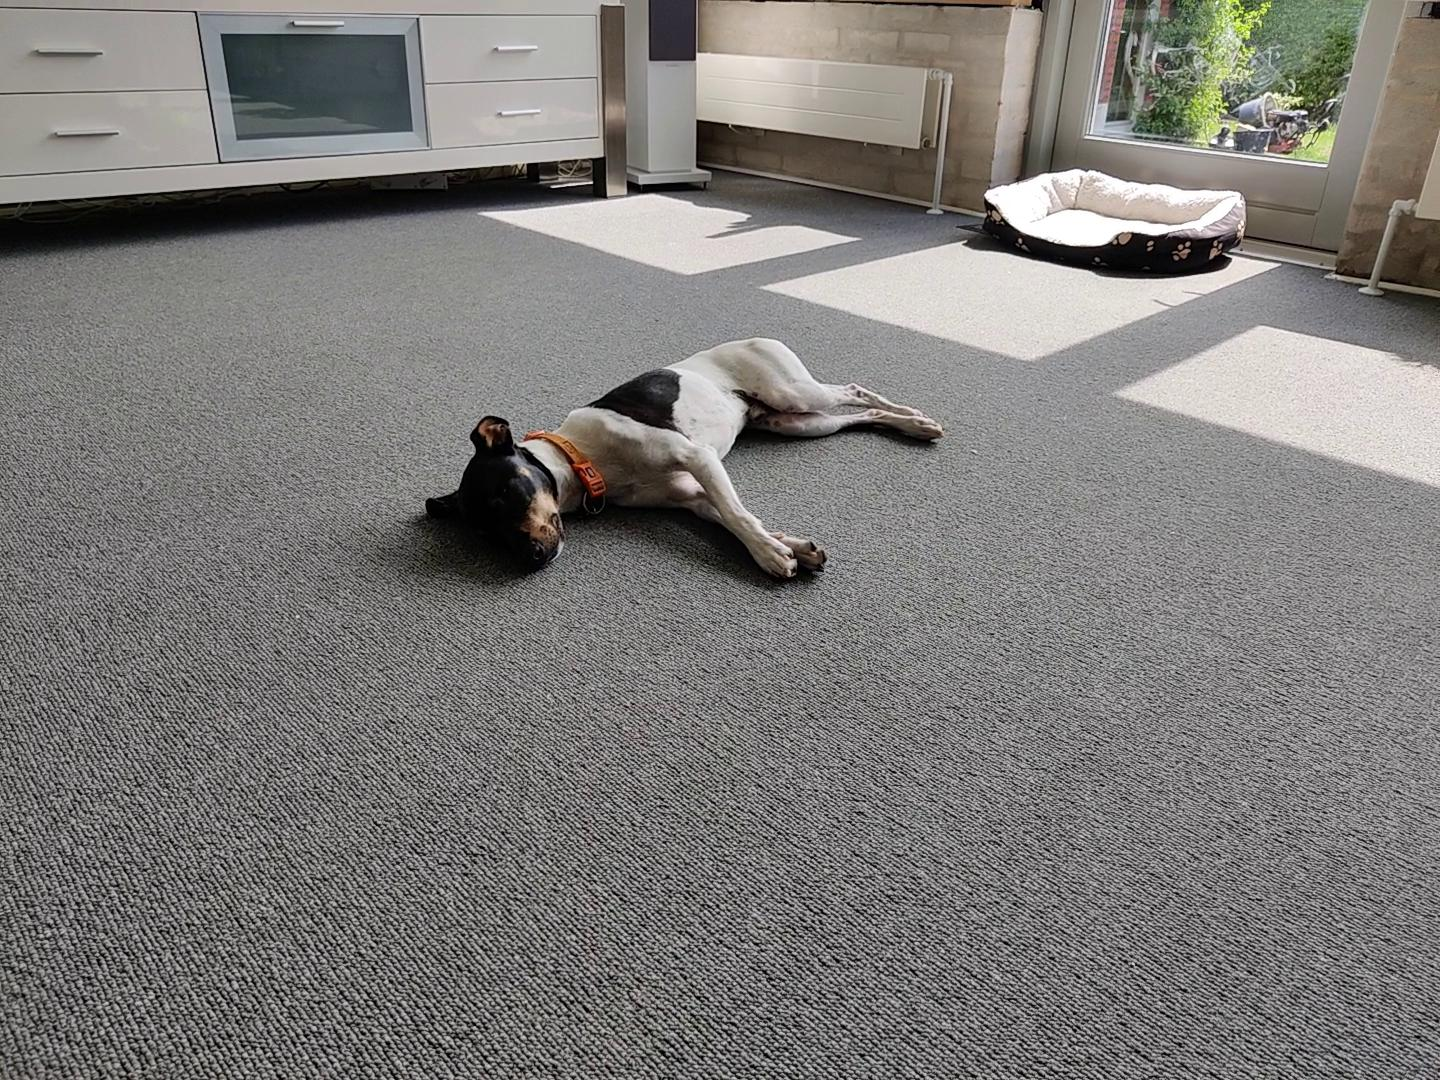Dog: (404, 330, 950, 606)
